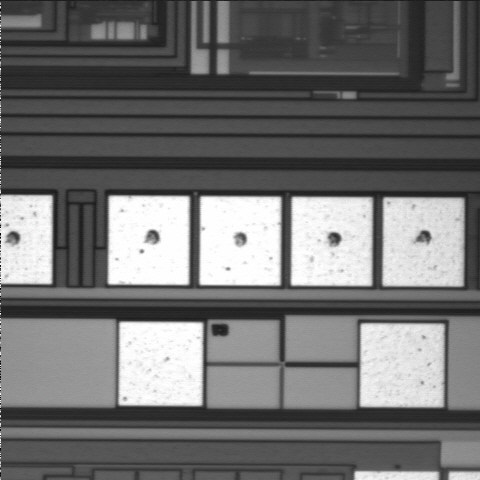pad: (108, 196, 190, 285), (199, 196, 281, 285), (291, 197, 372, 286), (383, 198, 464, 286), (119, 322, 203, 406), (360, 323, 444, 407)
